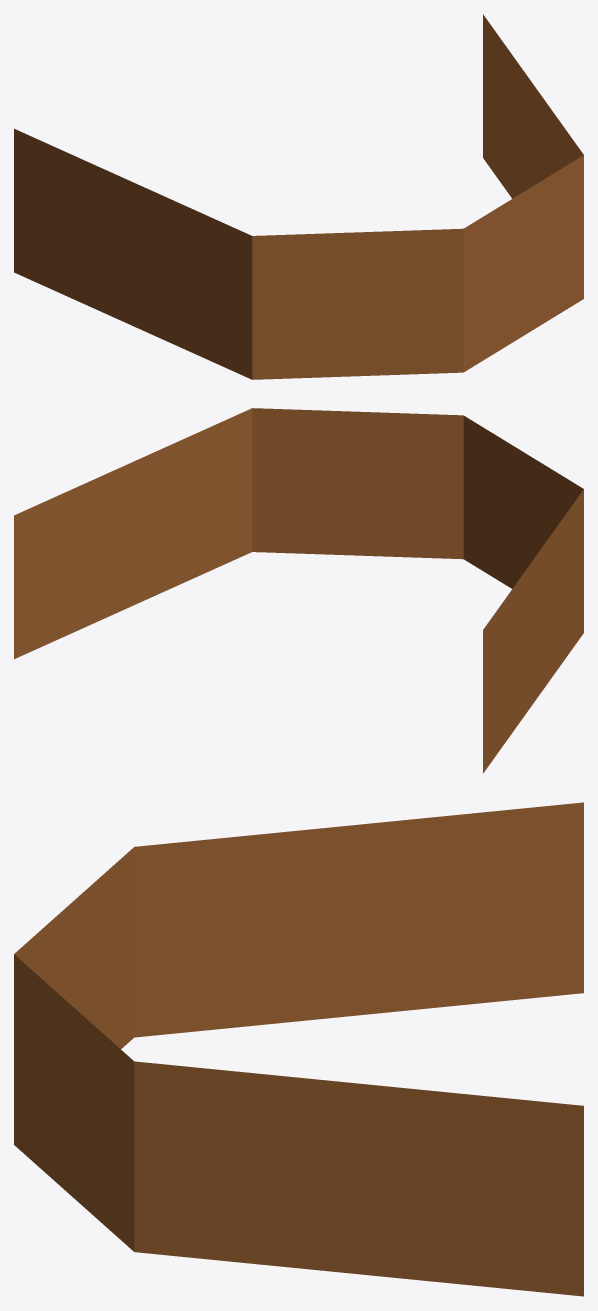
The model's file is ship_front_cannon.fbx.
3 renders of one model, top to bottom at view 1: azimuth 30°, elevation 25°; view 2: azimuth 150°, elevation 25°; view 3: azimuth 270°, elevation 25°, orthographic. The views are drawn at different scales.
Visible parts, largest first — view 1: ship_cannondeck_front; view 2: ship_cannondeck_front; view 3: ship_cannondeck_front.
Part boxes in pixels (x1,y1,x2,y2): ship_cannondeck_front: [14, 14, 583, 379]; ship_cannondeck_front: [14, 408, 583, 773]; ship_cannondeck_front: [14, 802, 583, 1296].
Size of the model in its own units: 3.41 by 1 by 2.71.
